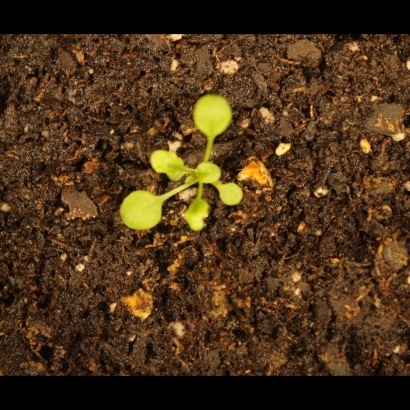leaf: (110, 187, 167, 237), (146, 143, 193, 185), (192, 90, 234, 136), (183, 195, 215, 234), (215, 181, 252, 209), (196, 156, 227, 187)
